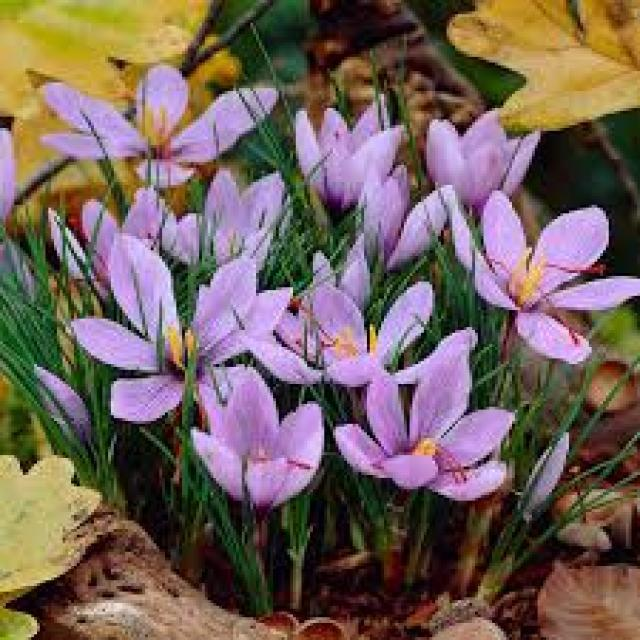Flower: (63, 247, 245, 409), (473, 184, 634, 353), (42, 68, 254, 191), (348, 367, 514, 507), (177, 358, 325, 506), (264, 271, 429, 374)
stigma: (546, 247, 612, 280)
